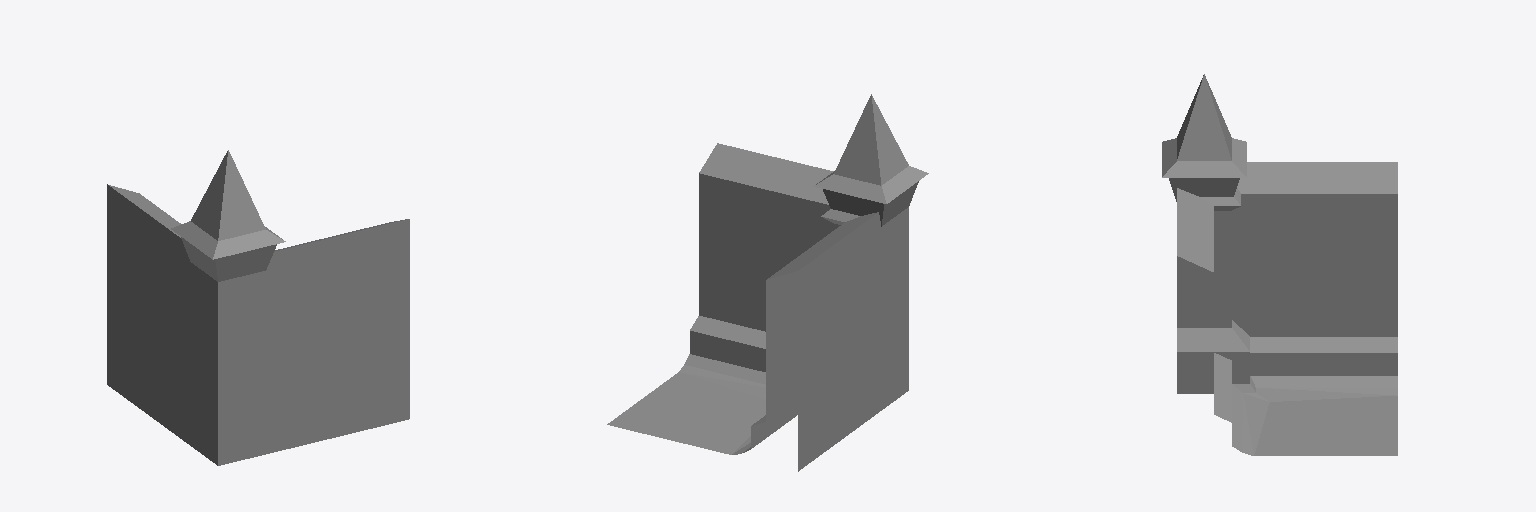
Rendered from Ext_Wall_Corner_Out.obj.
The picture shows the model from 3 angles: view 1: azimuth 30°, elevation 25°; view 2: azimuth 150°, elevation 25°; view 3: azimuth 270°, elevation 25°; orthographic projection.
Visible parts, largest first — view 1: Palette; view 2: Palette; view 3: Palette.
Boxes of the visible parts, x1=… form: Palette: x1=107, y1=150, x2=409, y2=465; Palette: x1=607, y1=94, x2=928, y2=471; Palette: x1=1162, y1=74, x2=1397, y2=455.
Size of the model in its own units: 6.4 by 9 by 6.4.